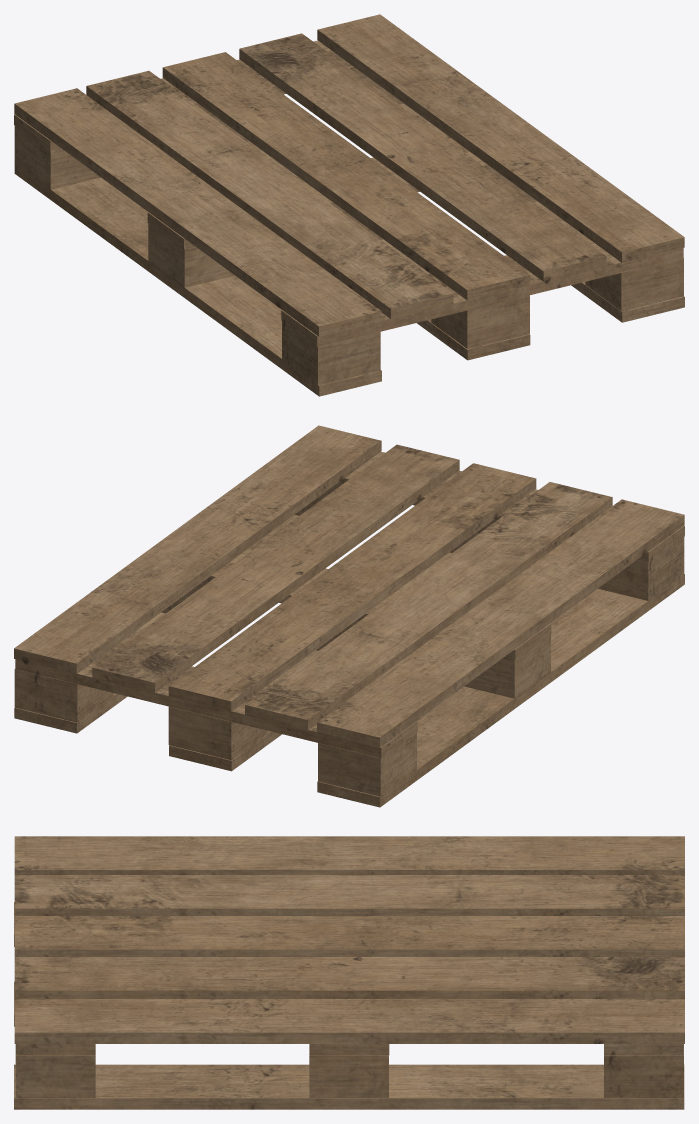
File: pallet2.fbx
3 renders of one model, top to bottom at view 1: azimuth 30°, elevation 25°; view 2: azimuth 150°, elevation 25°; view 3: azimuth 270°, elevation 25°, orthographic. The views are drawn at different scales.
Parts seen in each view (by area): view 1: pallet2; view 2: pallet2; view 3: pallet2.
Boxes of the visible parts, bbox=[...] form: pallet2: bbox=[14, 14, 684, 396]; pallet2: bbox=[14, 425, 684, 807]; pallet2: bbox=[14, 836, 684, 1109].
Size of the model in its own units: 294 by 53.68 by 424.
